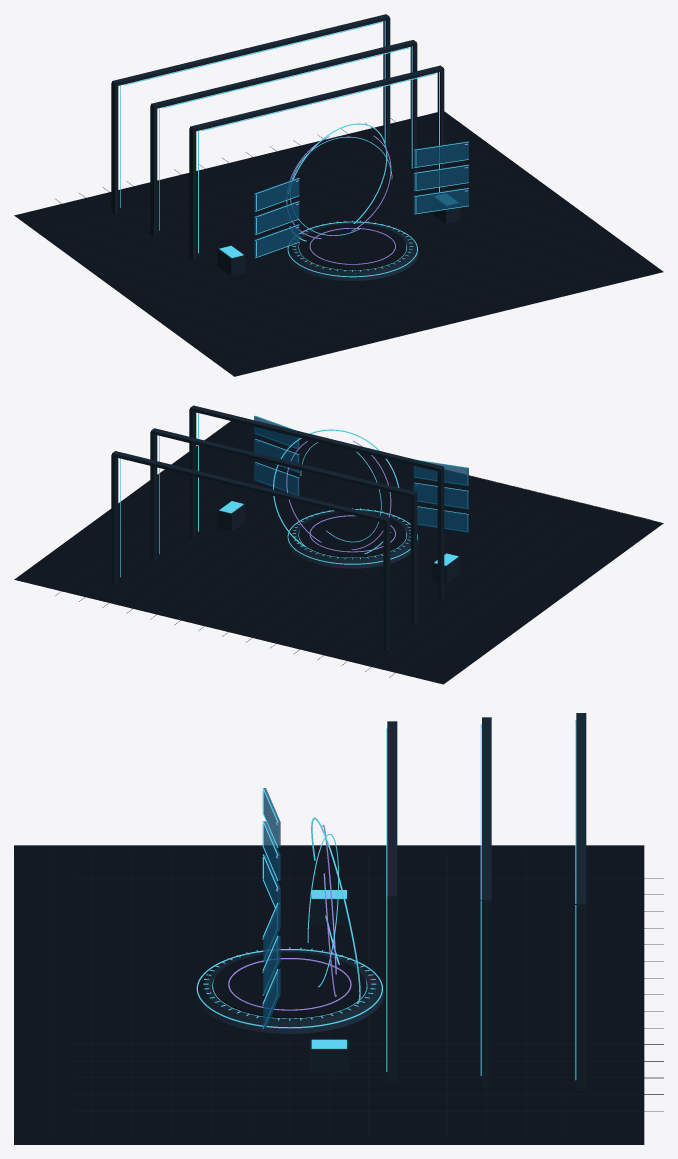
The model's file is f2r-environment.glb.
3 views of the same model, one above another, from view 1: azimuth 30°, elevation 25°; view 2: azimuth 150°, elevation 25°; view 3: azimuth 270°, elevation 25° (orthographic). The views are drawn at different scales.
Visible parts, largest first — view 1: 03_RESEARCH_FACILITY, 01_CENTRAL_STAGE, service_4, service_5, service_3, service_2, service_0, service_1; view 2: 03_RESEARCH_FACILITY, 01_CENTRAL_STAGE, service_1, service_2, service_5, service_0, service_3, service_4, orbit_2; view 3: 03_RESEARCH_FACILITY, 01_CENTRAL_STAGE, orbit_2.
Part boxes in pixels (left/top/right/bottom): 03_RESEARCH_FACILITY: left=14, top=14, right=663, bottom=376; 01_CENTRAL_STAGE: left=286, top=220, right=418, bottom=280; service_4: left=413, top=164, right=468, bottom=191; service_5: left=413, top=187, right=468, bottom=214; service_3: left=413, top=141, right=468, bottom=167; service_2: left=254, top=224, right=299, bottom=258; service_0: left=254, top=177, right=299, bottom=211; service_1: left=254, top=201, right=299, bottom=234; 03_RESEARCH_FACILITY: left=14, top=405, right=663, bottom=684; 01_CENTRAL_STAGE: left=286, top=508, right=418, bottom=568; service_1: left=413, top=482, right=468, bottom=509; service_2: left=417, top=506, right=468, bottom=532; service_5: left=254, top=462, right=299, bottom=495; service_0: left=413, top=459, right=468, bottom=485; service_3: left=254, top=415, right=299, bottom=449; service_4: left=254, top=439, right=299, bottom=472; orbit_2: left=273, top=429, right=399, bottom=553; 03_RESEARCH_FACILITY: left=14, top=713, right=663, bottom=1144; 01_CENTRAL_STAGE: left=195, top=947, right=384, bottom=1033; orbit_2: left=311, top=817, right=360, bottom=1003.
Size of the model in its own units: 18 by 5.26 by 16.5.
